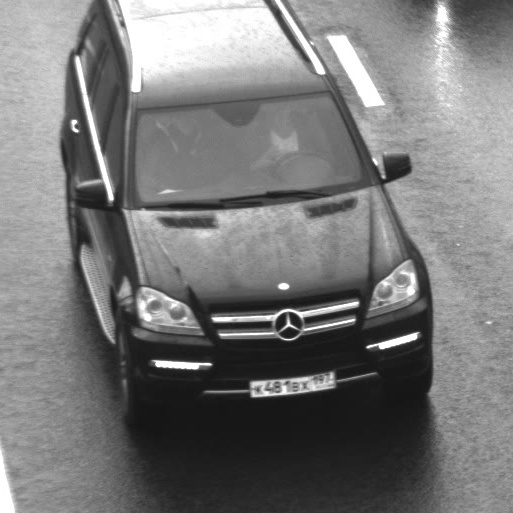plate: (240, 361, 343, 403)
